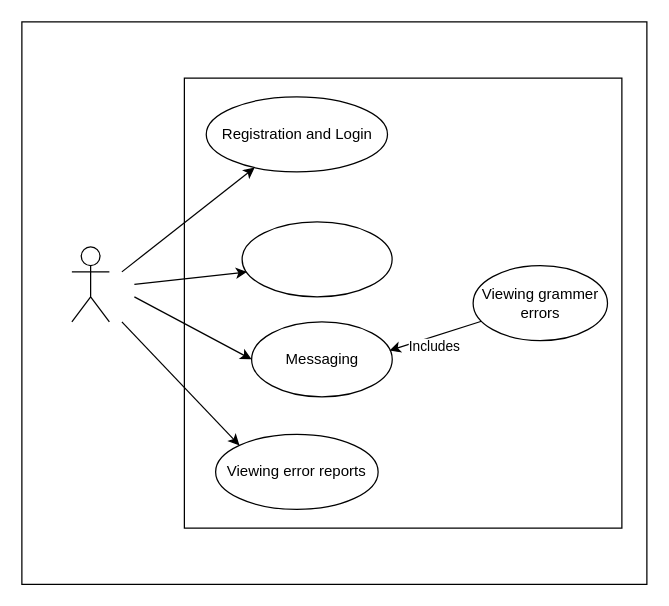
Image size: 669x606. Some labels were removed from this diagram. Here are the shapes that lost their labels. From the top down, the centre of each, then its label:
At [316,259]: "Chat Bot Selection".
At [90,284]: "Actor".
